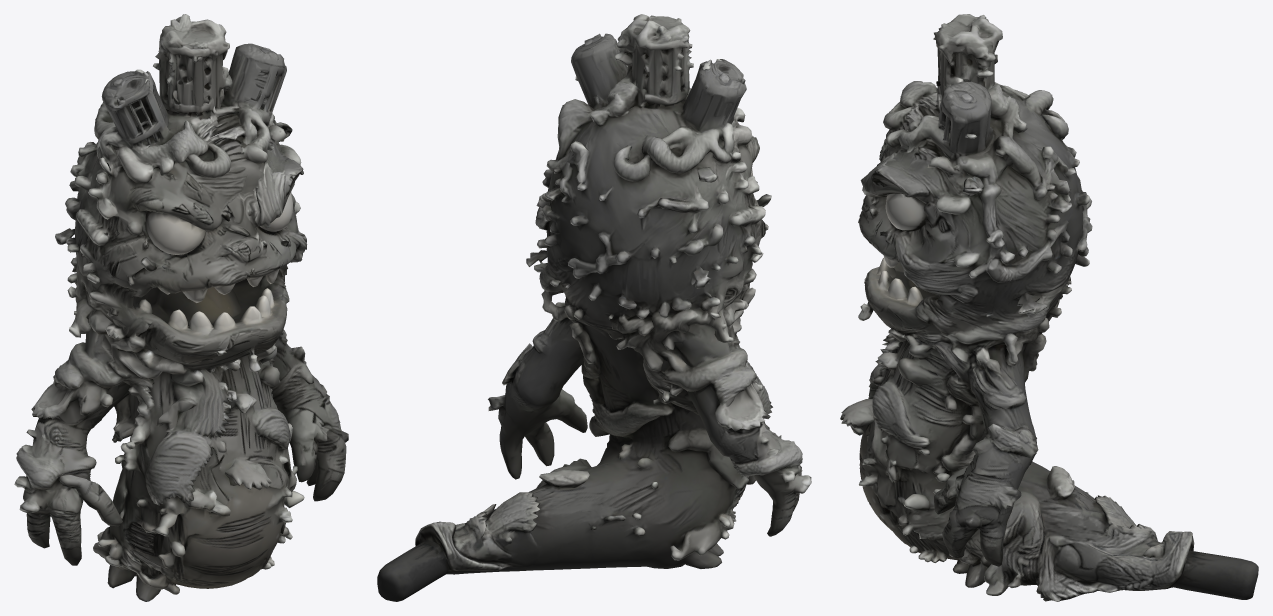
The model's file is the_lint_king.glb.
3 renders of one model, left to right at view 1: azimuth 30°, elevation 25°; view 2: azimuth 150°, elevation 25°; view 3: azimuth 270°, elevation 25°, orthographic. The views are drawn at different scales.
Visible parts, largest first — view 1: the_lint_king; view 2: the_lint_king; view 3: the_lint_king.
Boxes of the visible parts, x1,y1,x2,y2 form: the_lint_king: [14, 14, 348, 601]; the_lint_king: [377, 14, 811, 601]; the_lint_king: [840, 14, 1258, 601].
Size of the model in its own units: 1.81 by 3 by 2.13.
Materials: 1 (1 with a texture image).
